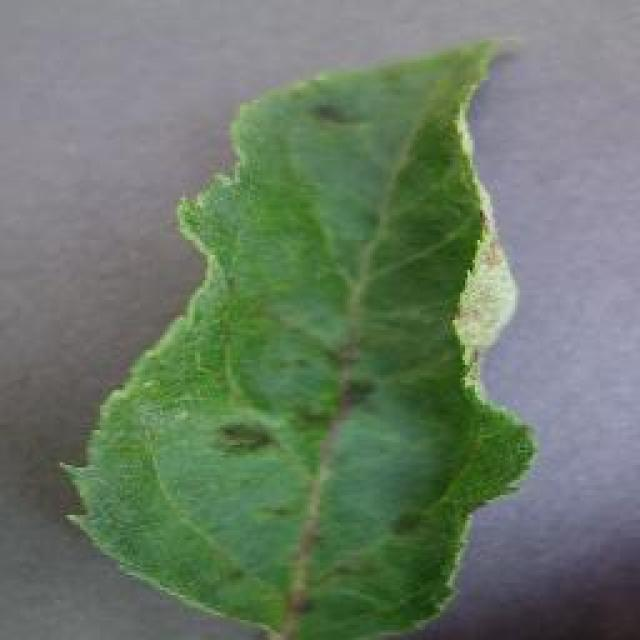apple scab disease: (58, 32, 540, 638)
